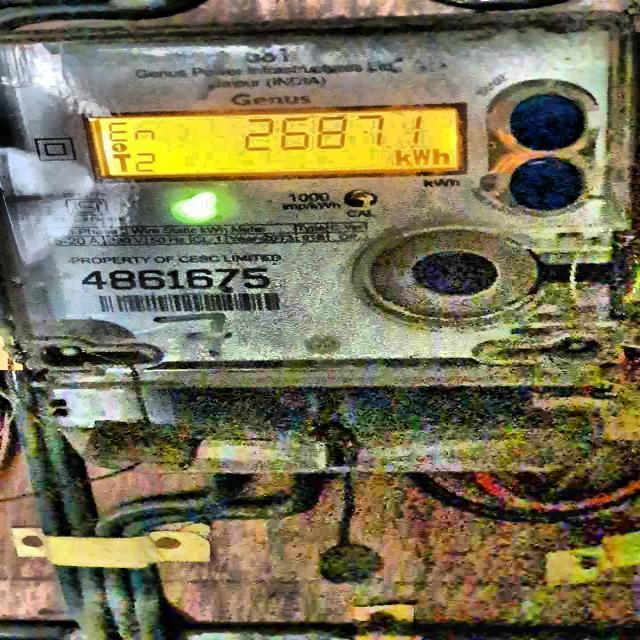Digital: (4, 25, 636, 398)
Reading: (231, 112, 438, 149)
Serial No.: (80, 266, 275, 289)
